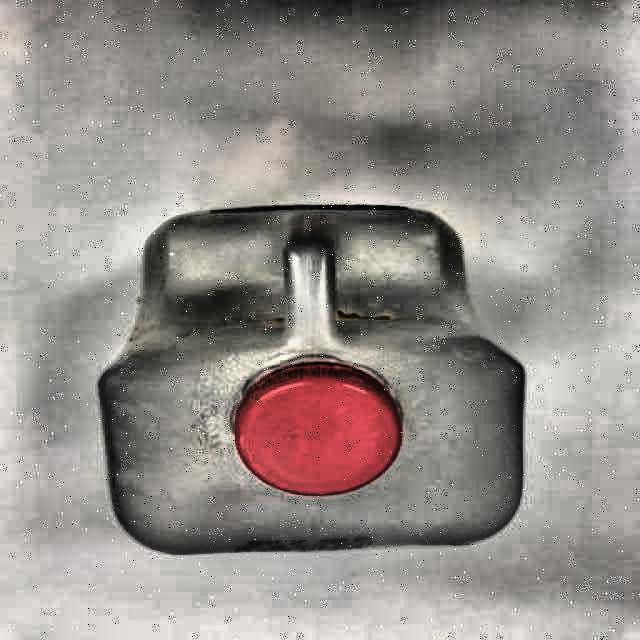plastic: (99, 206, 524, 553)
